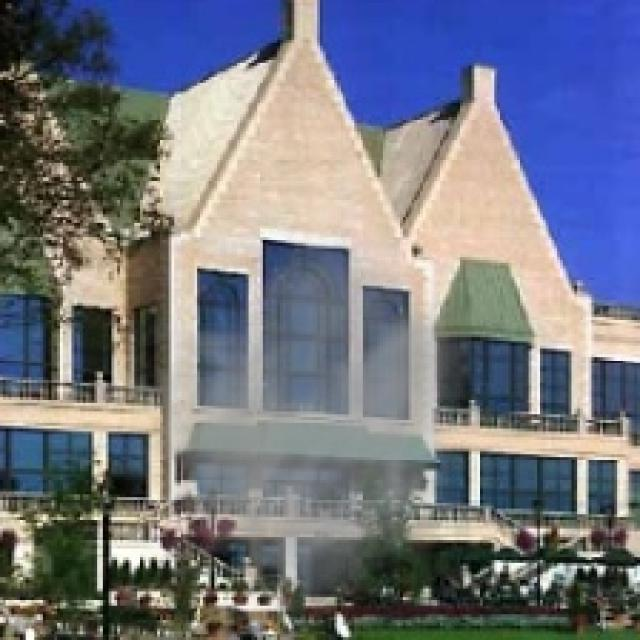smoke: (111, 217, 472, 637)
